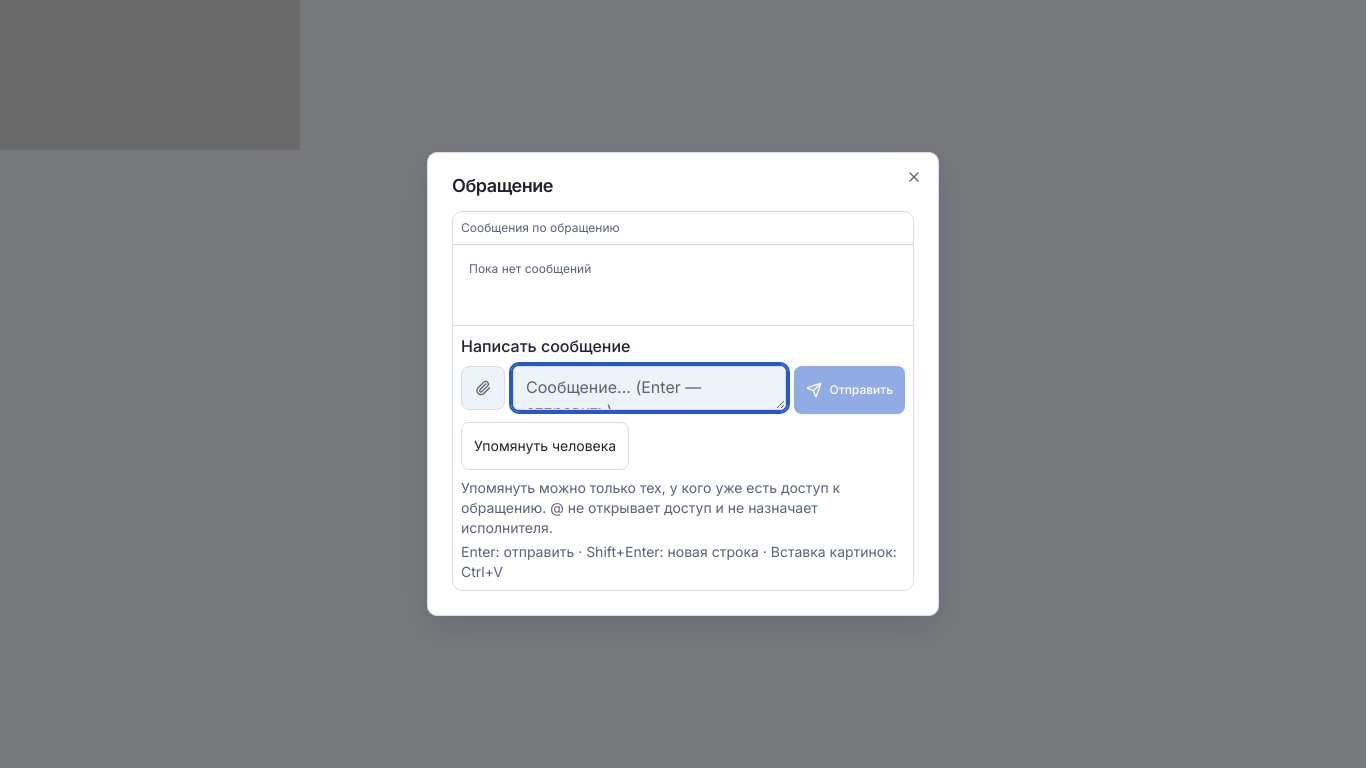
keeps textarea focus and portaled options usable inside the real task dialog focus scope
The image size is (1366, 768).
Expected: the text "Пока нет сообщений" is shown, 469,261 -> 591,276
In the text box labelled "Сообщение": [649, 388] box 513,366 -> 786,410, type "@Ан"
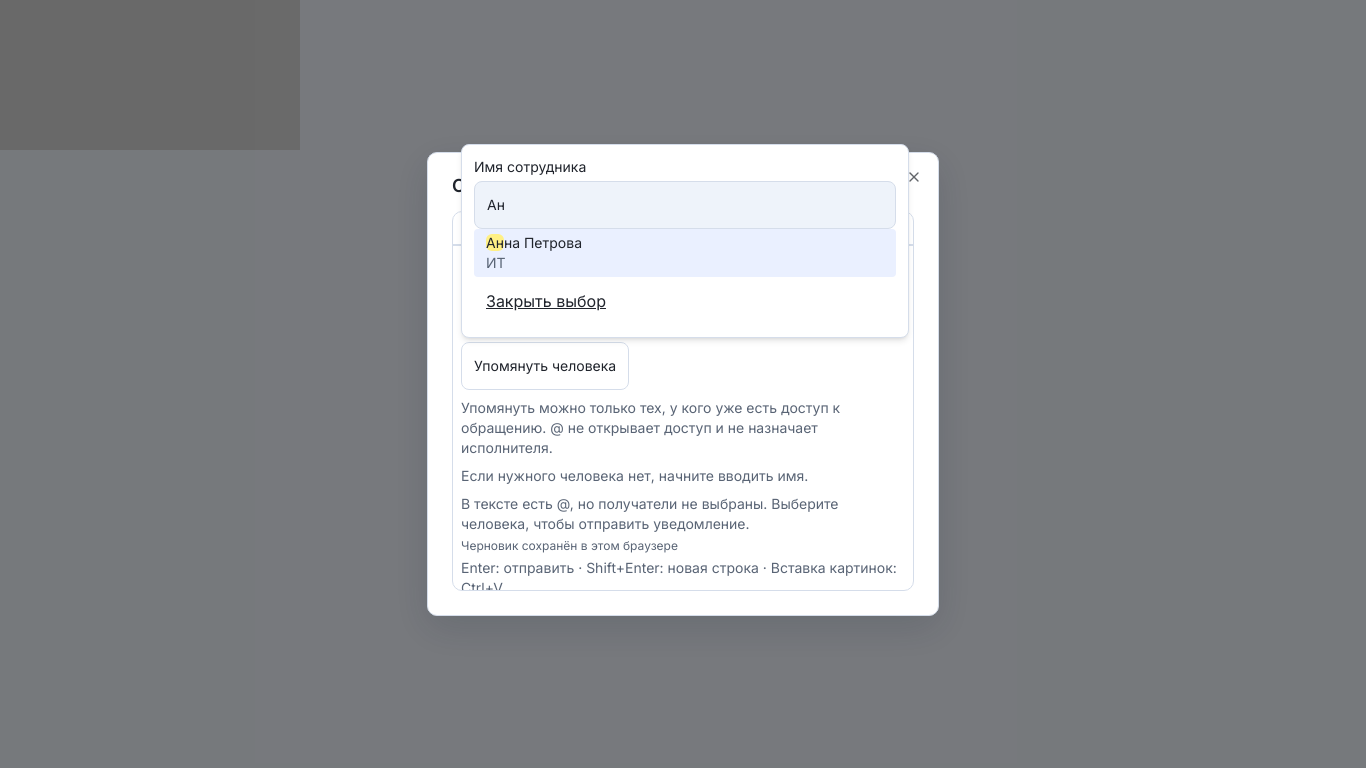
Click the option "Анна Петрова ИТ": [543, 242] box 474,229 -> 896,277
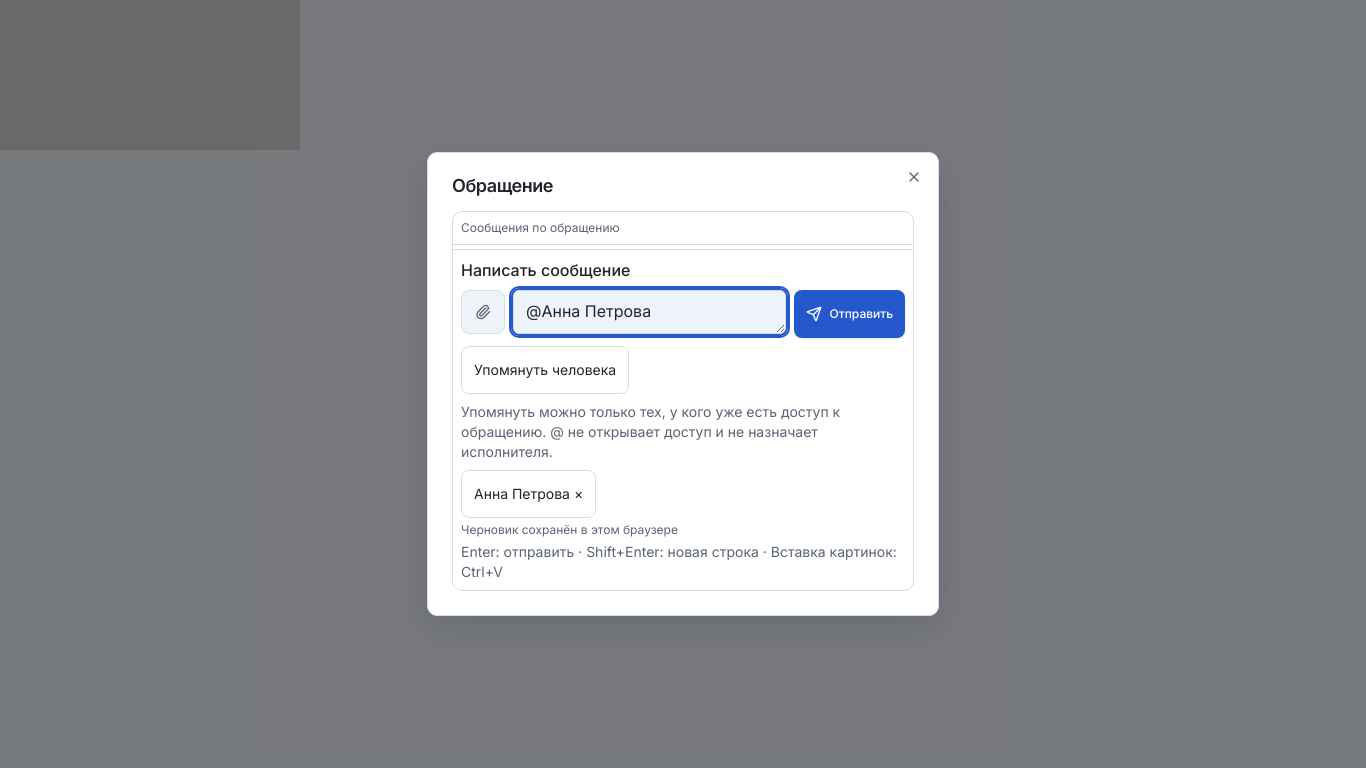
Expected: the dialog "Обращение" is shown, 427,152 -> 939,616
Expected: the text box named "Сообщение" holds "@Анна Петрова ", 513,290 -> 786,334
